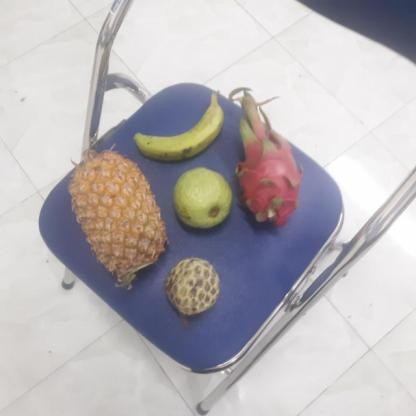annona: (160, 258, 219, 317)
banana: (130, 88, 219, 164)
guava: (170, 167, 232, 228)
pineapple: (65, 149, 165, 282)
pitaya: (227, 98, 301, 226)
